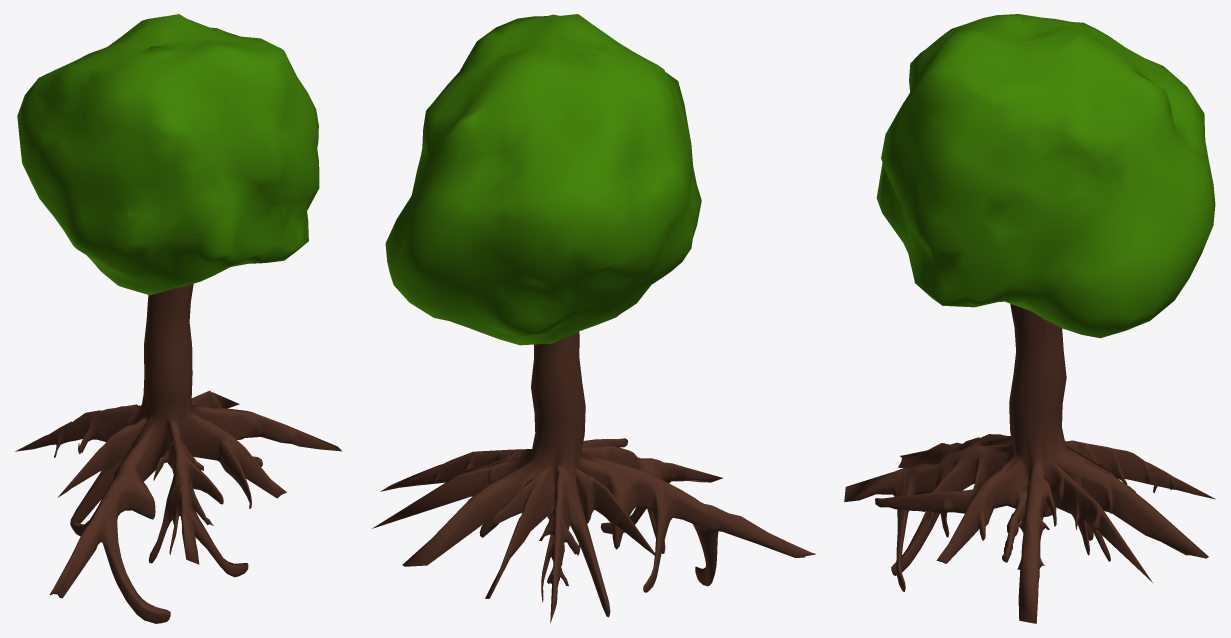
The model's file is dzewo.fbx.
3 renders of one model, left to right at view 1: azimuth 30°, elevation 25°; view 2: azimuth 150°, elevation 25°; view 3: azimuth 270°, elevation 25°, orthographic. The views are drawn at different scales.
Parts seen in each view (by area): view 1: Cylinder; view 2: Cylinder; view 3: Cylinder.
Boxes of the visible parts, x1,y1,x2,y2 form: Cylinder: [15, 14, 341, 623]; Cylinder: [372, 14, 815, 622]; Cylinder: [844, 14, 1215, 623].
Bounding box in the file's own units: 1725 × 2516 × 1439.
